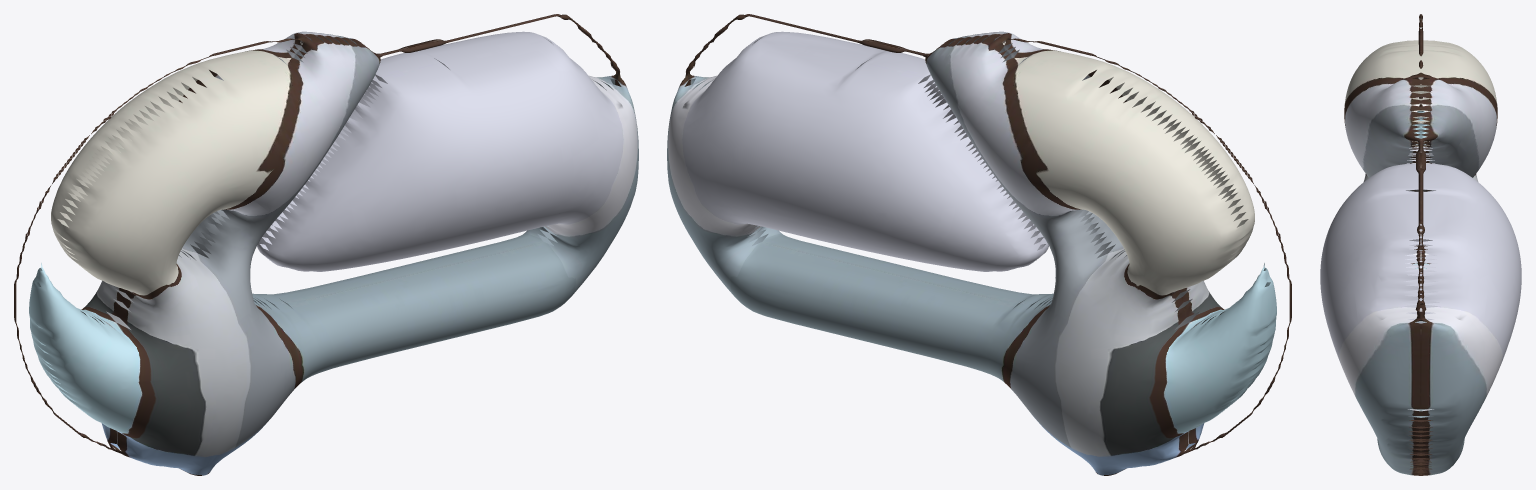
The model's file is outrigger_pod.glb.
The picture shows the model from 3 angles, left to right: view 1: azimuth 30°, elevation 25°; view 2: azimuth 150°, elevation 25°; view 3: azimuth 270°, elevation 25°; orthographic projection. The views are drawn at different scales.
Visible parts, largest first — view 1: outrigger_pod; view 2: outrigger_pod; view 3: outrigger_pod.
Part boxes in pixels (x1,y1,x2,y2): outrigger_pod: (14,14,638,475); outrigger_pod: (667,14,1291,475); outrigger_pod: (1320,14,1521,475).
Size of the model in its own units: 0.9891 by 0.6081 by 0.3128.
Materials: 1 (1 with a texture image).
